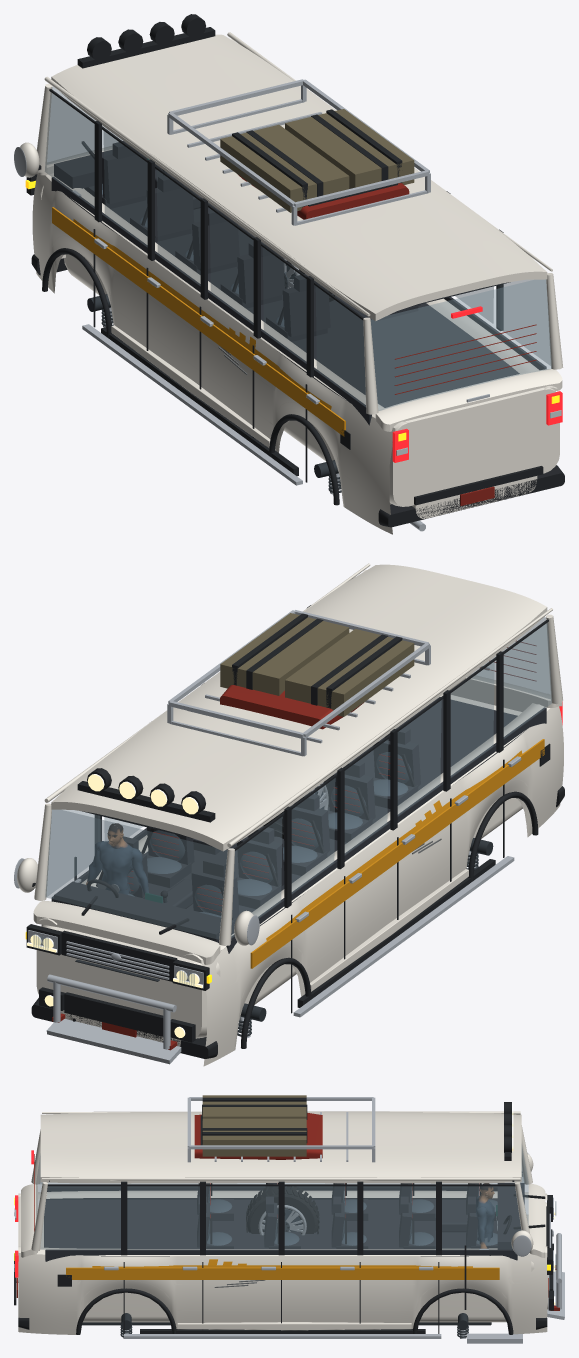
File: tourist-coaster.glb
The picture shows the model from 3 angles, top to bottom: view 1: azimuth 30°, elevation 25°; view 2: azimuth 150°, elevation 25°; view 3: azimuth 270°, elevation 25°; orthographic projection. The views are drawn at different scales.
Visible parts, largest first — view 1: body_high, body_low, cosmetic_carrier (×2), cosmetic_basket, cosmetic_lamps, cosmetic_trail, cosmetic_stripe; view 2: body_high, body_low, cosmetic_carrier (×2), cosmetic_trail, cosmetic_basket, cosmetic_lamps, cosmetic_stripe; view 3: body_high, body_low, cosmetic_carrier (×2), cosmetic_trail, cosmetic_basket, wheel_high, cosmetic_stripe, cosmetic_lamps, wheel_low, rim_touring.
Part boxes in pixels (left/top/right/bottom): body_high: left=14, top=32, right=564, bottom=534; body_low: left=23, top=87, right=562, bottom=514; cosmetic_carrier (×2): left=220, top=109, right=414, bottom=212; cosmetic_basket: left=167, top=79, right=430, bottom=225; cosmetic_lamps: left=77, top=14, right=215, bottom=68; cosmetic_trail: left=82, top=324, right=302, bottom=485; cosmetic_stripe: left=73, top=219, right=331, bottom=409; body_high: left=14, top=563, right=564, bottom=1066; body_low: left=17, top=605, right=562, bottom=1061; cosmetic_carrier (×2): left=220, top=613, right=414, bottom=716; cosmetic_trail: left=46, top=856, right=514, bottom=1064; cosmetic_basket: left=167, top=610, right=430, bottom=756; cosmetic_lamps: left=77, top=768, right=215, bottom=822; cosmetic_stripe: left=266, top=750, right=522, bottom=940; body_high: left=14, top=1111, right=559, bottom=1342; body_low: left=14, top=1149, right=559, bottom=1343; cosmetic_carrier (×2): left=202, top=1095, right=307, bottom=1156; cosmetic_trail: left=124, top=1233, right=564, bottom=1338; cosmetic_basket: left=187, top=1097, right=375, bottom=1162; wheel_high: left=246, top=1186, right=319, bottom=1233; cosmetic_stripe: left=92, top=1265, right=472, bottom=1267; cosmetic_lamps: left=504, top=1102, right=513, bottom=1160; wheel_low: left=249, top=1195, right=315, bottom=1233; rim_touring: left=258, top=1205, right=306, bottom=1234.
Size of what is drawn, in the model's own units: 2.51 by 2.73 by 6.88.
